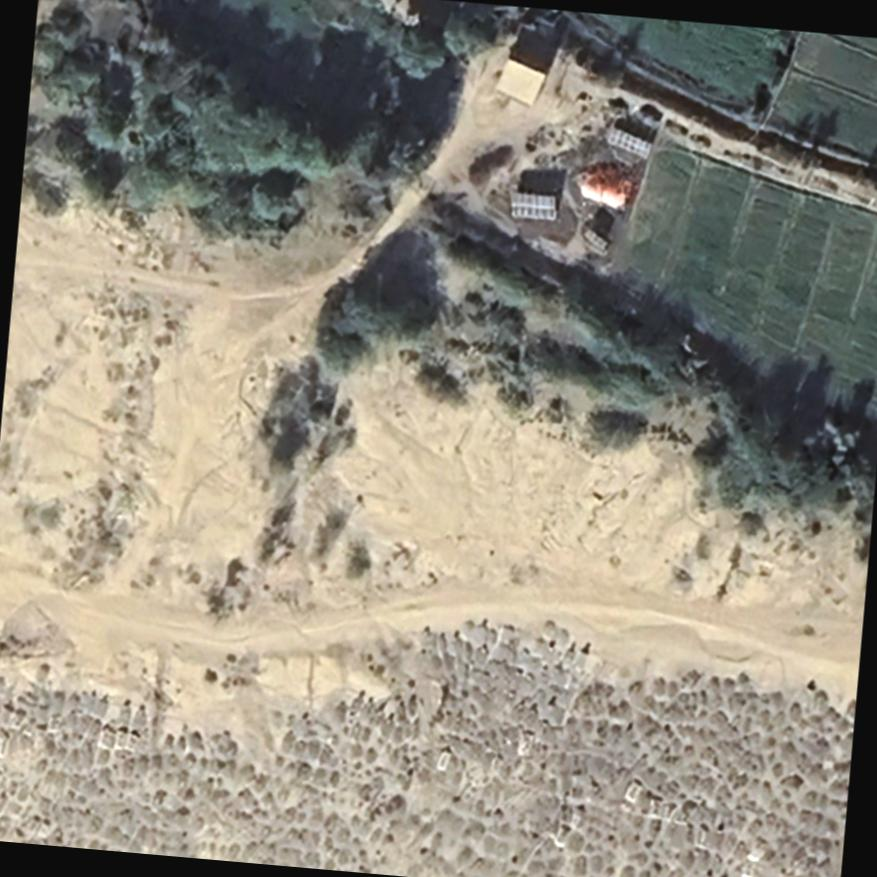Solarpanel: (598, 119, 655, 160), (503, 189, 562, 224), (579, 223, 611, 251)
